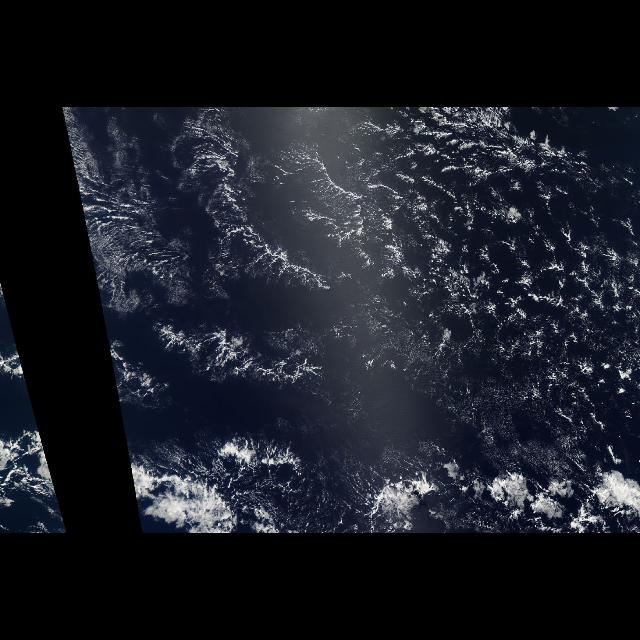Fish: (150, 111, 352, 413)
Gravel: (312, 113, 638, 470)
Sugar: (84, 120, 180, 312)
